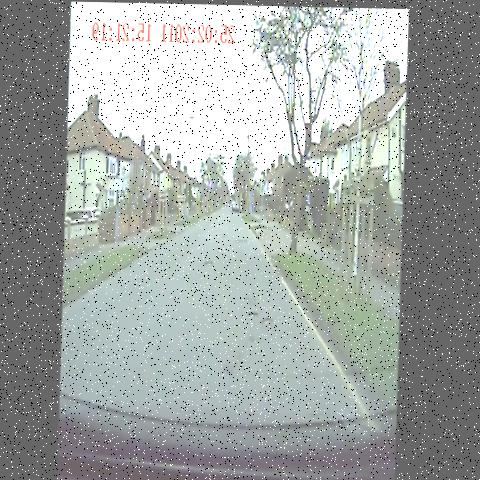pothole: (262, 304, 284, 333), (200, 247, 221, 275), (243, 295, 264, 322), (228, 234, 250, 255), (210, 231, 234, 243)
